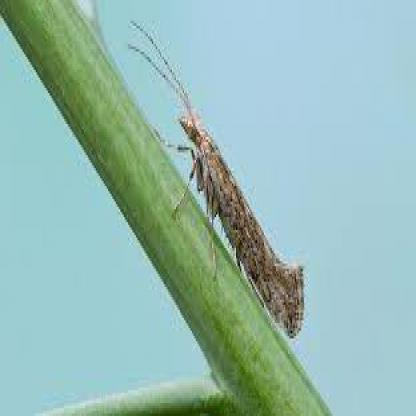plutella: (119, 18, 308, 349)
